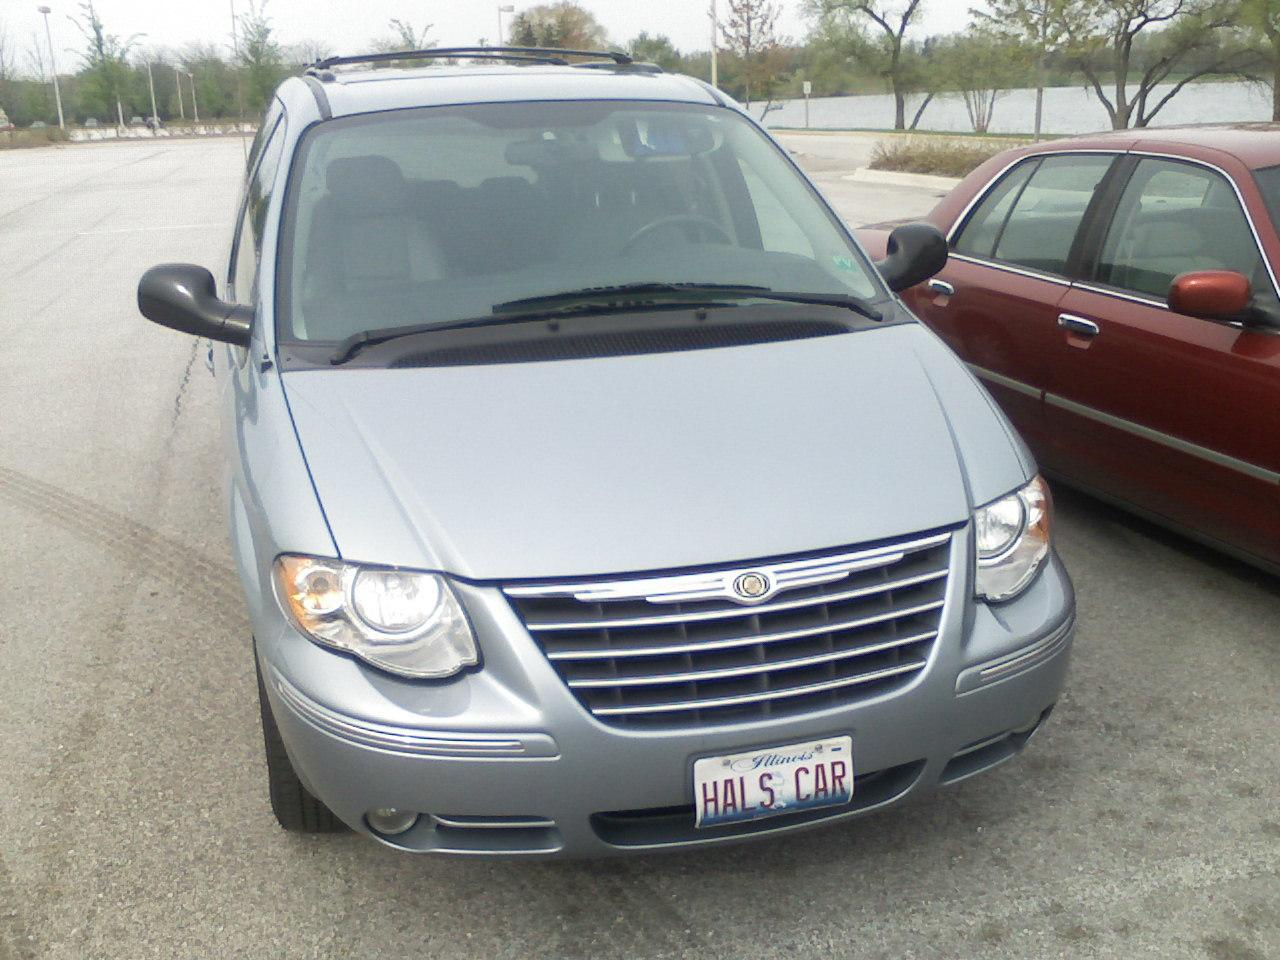Chrysler: (493, 515, 989, 629)
